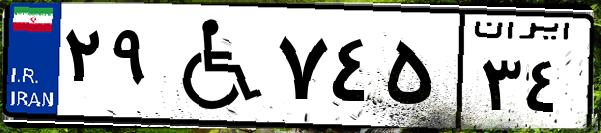2: (57, 26, 110, 100)
3: (475, 38, 525, 113)
4: (330, 28, 385, 110), (525, 38, 570, 115)
5: (385, 28, 445, 110)
7: (270, 28, 330, 110)
9: (110, 28, 158, 98)
ژ (معلولین و جانبازان): (158, 12, 270, 120)
